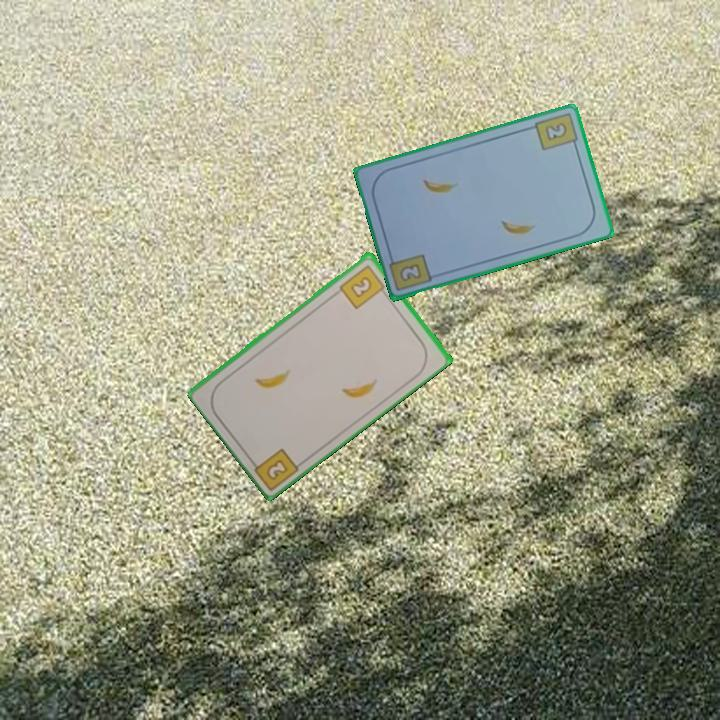2b: (336, 261, 390, 311), (247, 444, 302, 491), (531, 109, 581, 153), (396, 259, 425, 284)
